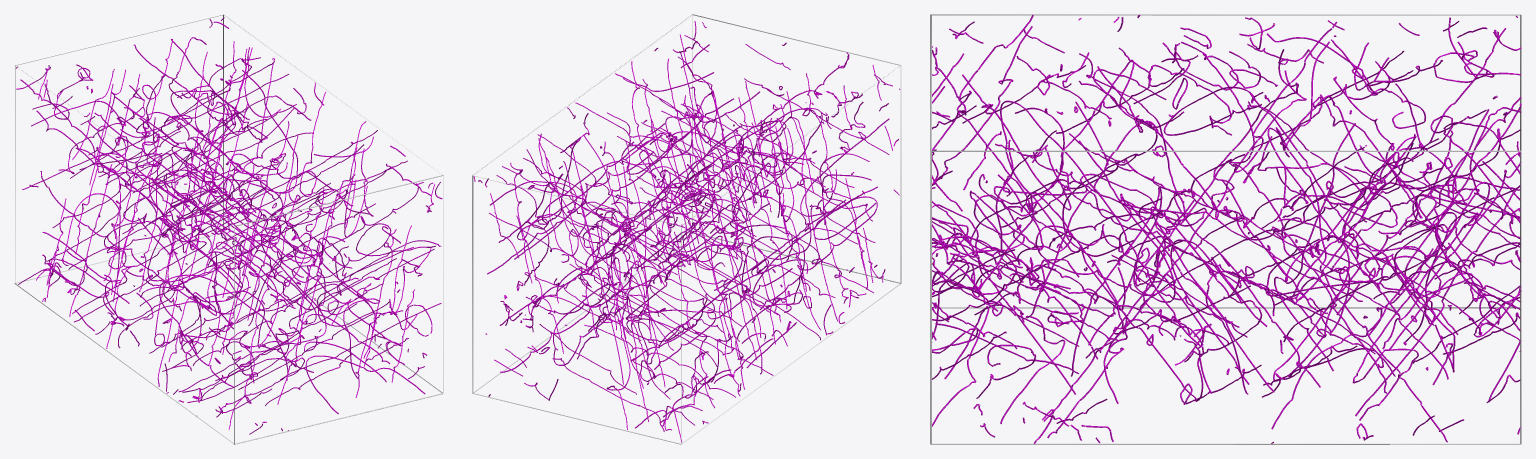
3 renders of one model, left to right at view 1: azimuth 30°, elevation 25°; view 2: azimuth 150°, elevation 25°; view 3: azimuth 270°, elevation 25°, orthographic. The views are drawn at different scales.
Parts seen in each view (by area): view 1: Shape_IndexedLineSet.001, Shape_IndexedLineSet; view 2: Shape_IndexedLineSet.001, Shape_IndexedLineSet; view 3: Shape_IndexedLineSet.001, Shape_IndexedLineSet.
Boxes of the visible parts, <box> form: Shape_IndexedLineSet.001: <box>16,17,442,434</box>; Shape_IndexedLineSet: <box>14,14,443,444</box>; Shape_IndexedLineSet.001: <box>473,21,900,442</box>; Shape_IndexedLineSet: <box>472,14,901,444</box>; Shape_IndexedLineSet.001: <box>932,15,1521,443</box>; Shape_IndexedLineSet: <box>930,14,1521,444</box>.
Size of the model in its own units: 241 by 241 by 439.
